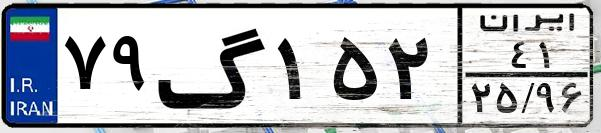1: (270, 28, 330, 110), (537, 27, 568, 80)
2: (385, 28, 445, 110), (470, 70, 495, 125)
4: (508, 27, 537, 80)
5: (330, 28, 385, 110), (495, 70, 520, 125)
6: (560, 70, 590, 125)
7: (57, 26, 110, 100)
9: (110, 28, 156, 98), (535, 70, 560, 125)
گ: (156, 12, 270, 120)
